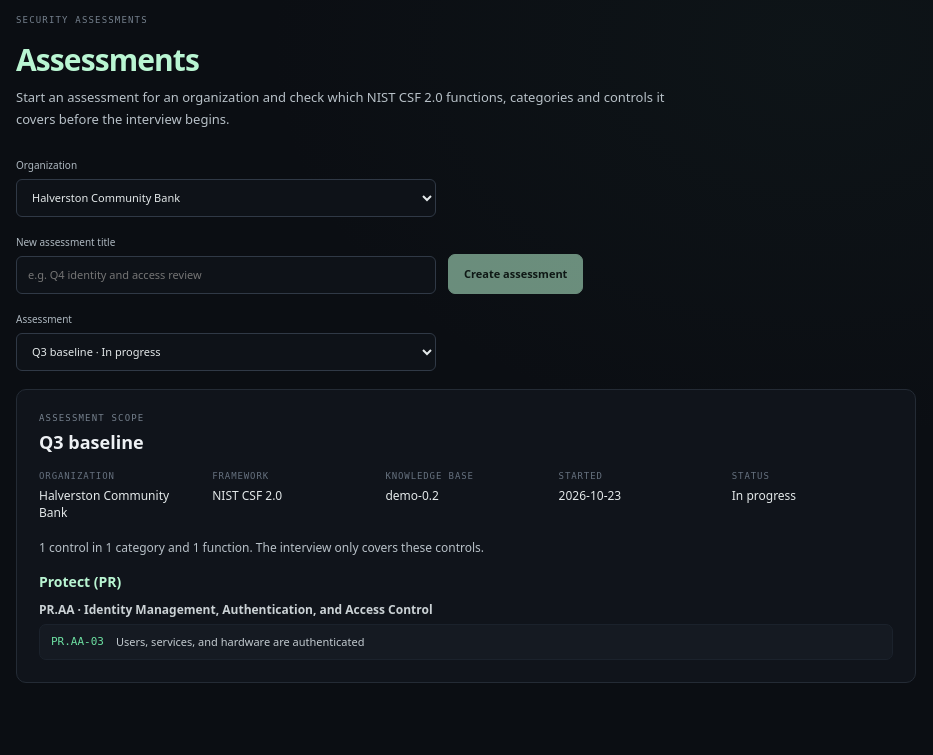
AssessmentWorkspace › shows the backend message when creating fails
Expected: the heading "Q3 baseline" is shown, [39,430,144,454]
In the field labelled "New assessment title": [226, 275] box [16,256,436,294], type "Q4"
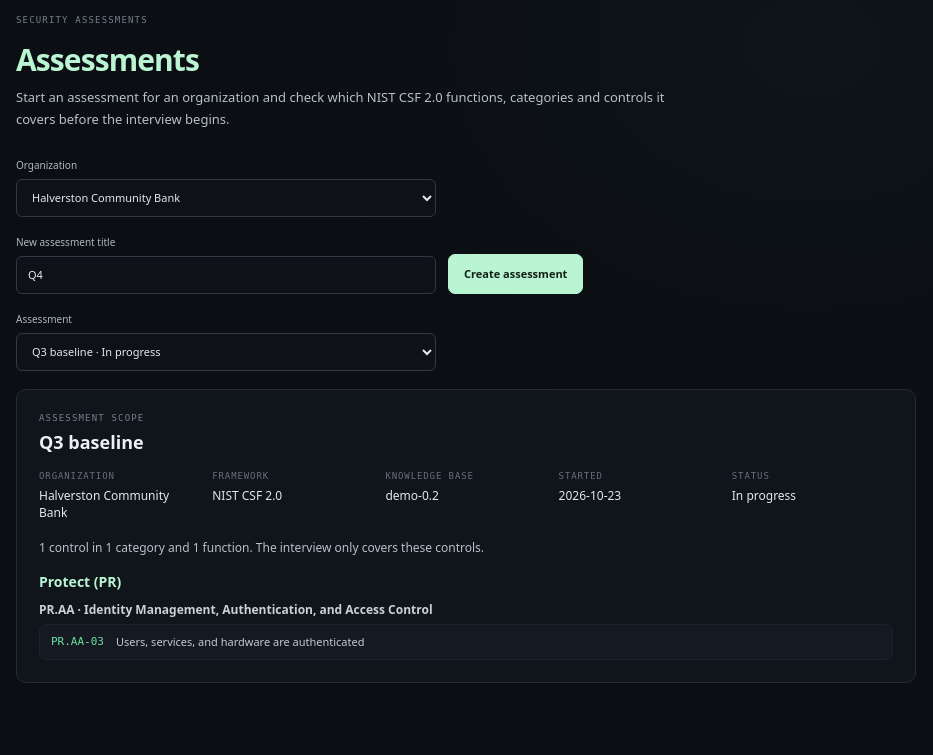
Click the button "Create assessment": [516, 274] box [448,254,583,294]
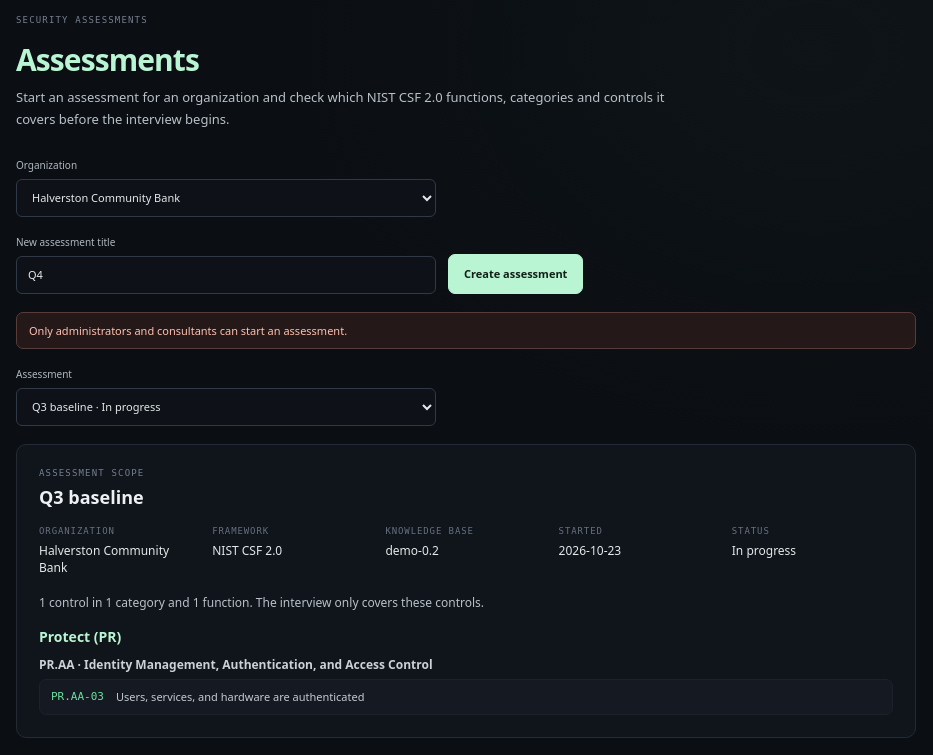
Expected: the message reads "Only administrators and consultants can start an assessment.", [29,323,347,338]
